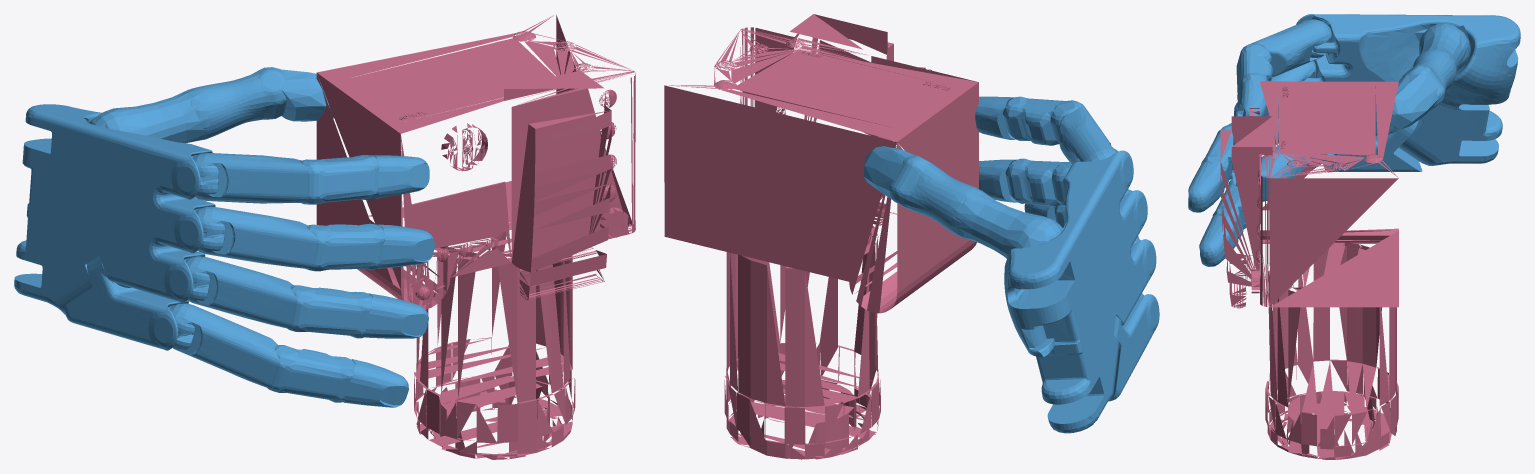
3 renders of one model, left to right at view 1: azimuth 30°, elevation 25°; view 2: azimuth 150°, elevation 25°; view 3: azimuth 270°, elevation 25°, orthographic. The views are drawn at different scales.
Parts seen in each view (by area): view 1: 0; view 2: 0; view 3: 0.
Part boxes in pixels (box(x1,y1,x2,y2)): 0: box(14, 15, 635, 459); 0: box(664, 14, 1159, 459); 0: box(1188, 14, 1520, 459).
Bounding box in the file's own units: 0.2355 × 0.1728 × 0.167.
